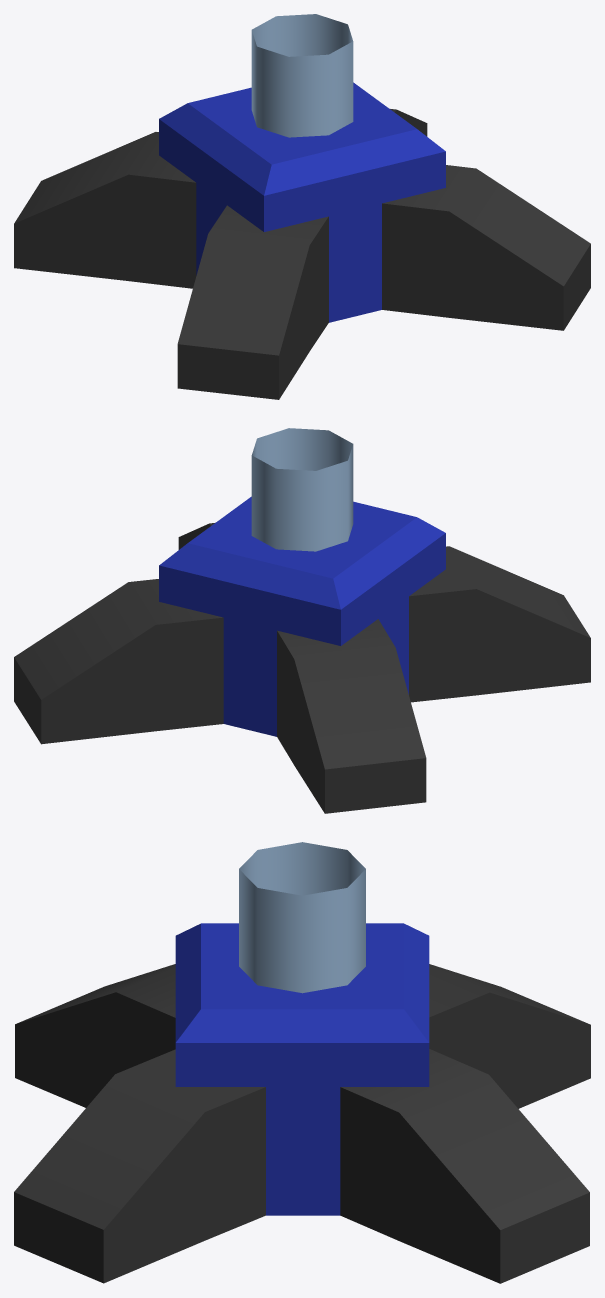
Rendered from Turret_Socle.FBX.
The picture shows the model from 3 angles, top to bottom: view 1: azimuth 30°, elevation 25°; view 2: azimuth 150°, elevation 25°; view 3: azimuth 270°, elevation 25°; orthographic projection. The views are drawn at different scales.
Visible parts, largest first — view 1: Socle; view 2: Socle; view 3: Socle.
Boxes of the visible parts, bbox=[...] form: Socle: bbox=[14, 14, 590, 399]; Socle: bbox=[14, 428, 590, 813]; Socle: bbox=[14, 842, 590, 1283].
Bounding box in the file's own units: 89.48 × 89.48 × 50.14.
